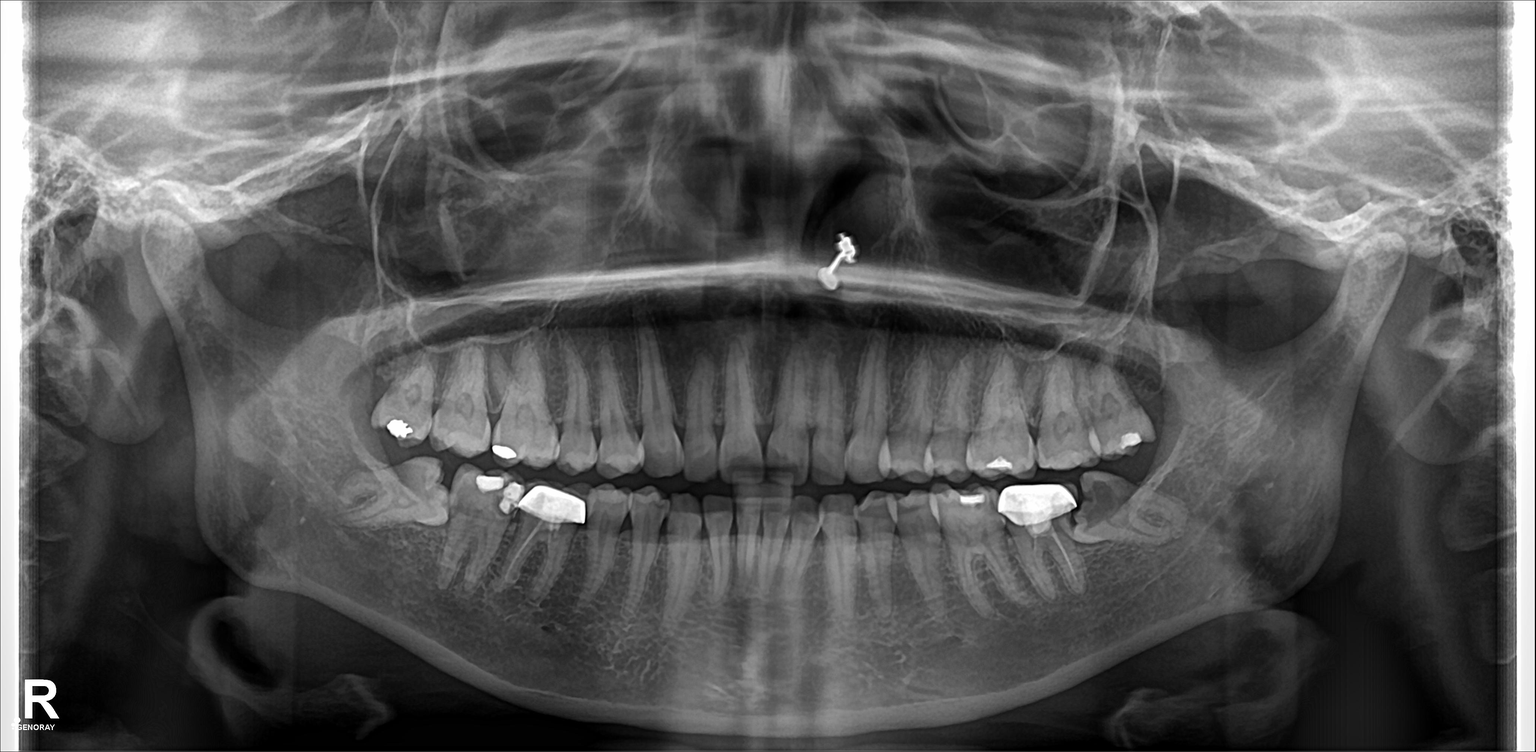Endodontically Treated Tooth: (1006, 482, 1070, 605), (521, 486, 575, 612)
Impacted Third Molar: (335, 462, 453, 526), (1080, 471, 1181, 539)
